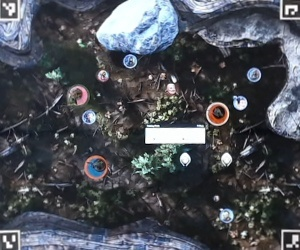light_blue_orange: (83, 156, 106, 179)
orange: (205, 101, 228, 124)
pink_green: (64, 83, 87, 106)
